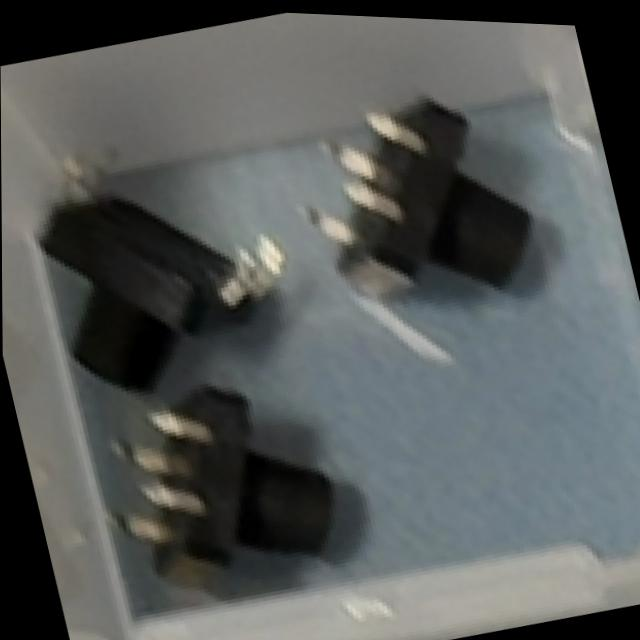Push Button: (21, 122, 316, 421), (93, 358, 359, 609), (294, 71, 550, 330)
